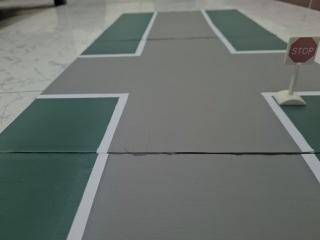stop: (286, 33, 320, 69)
